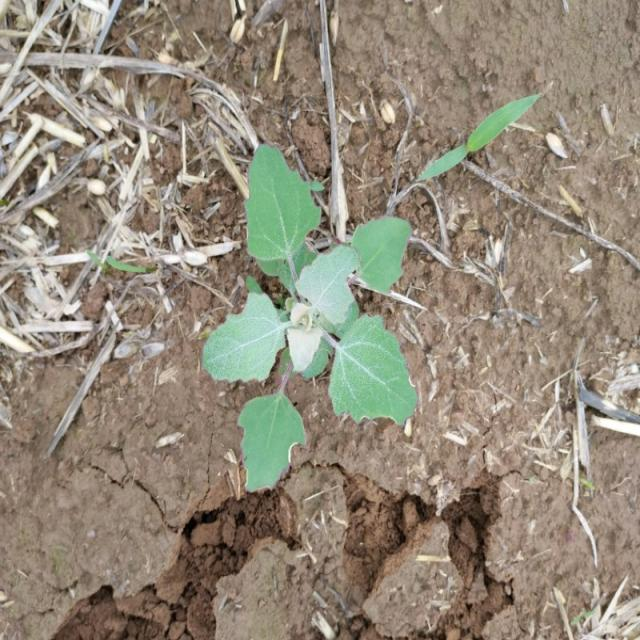goosefoots: (198, 146, 434, 461)
